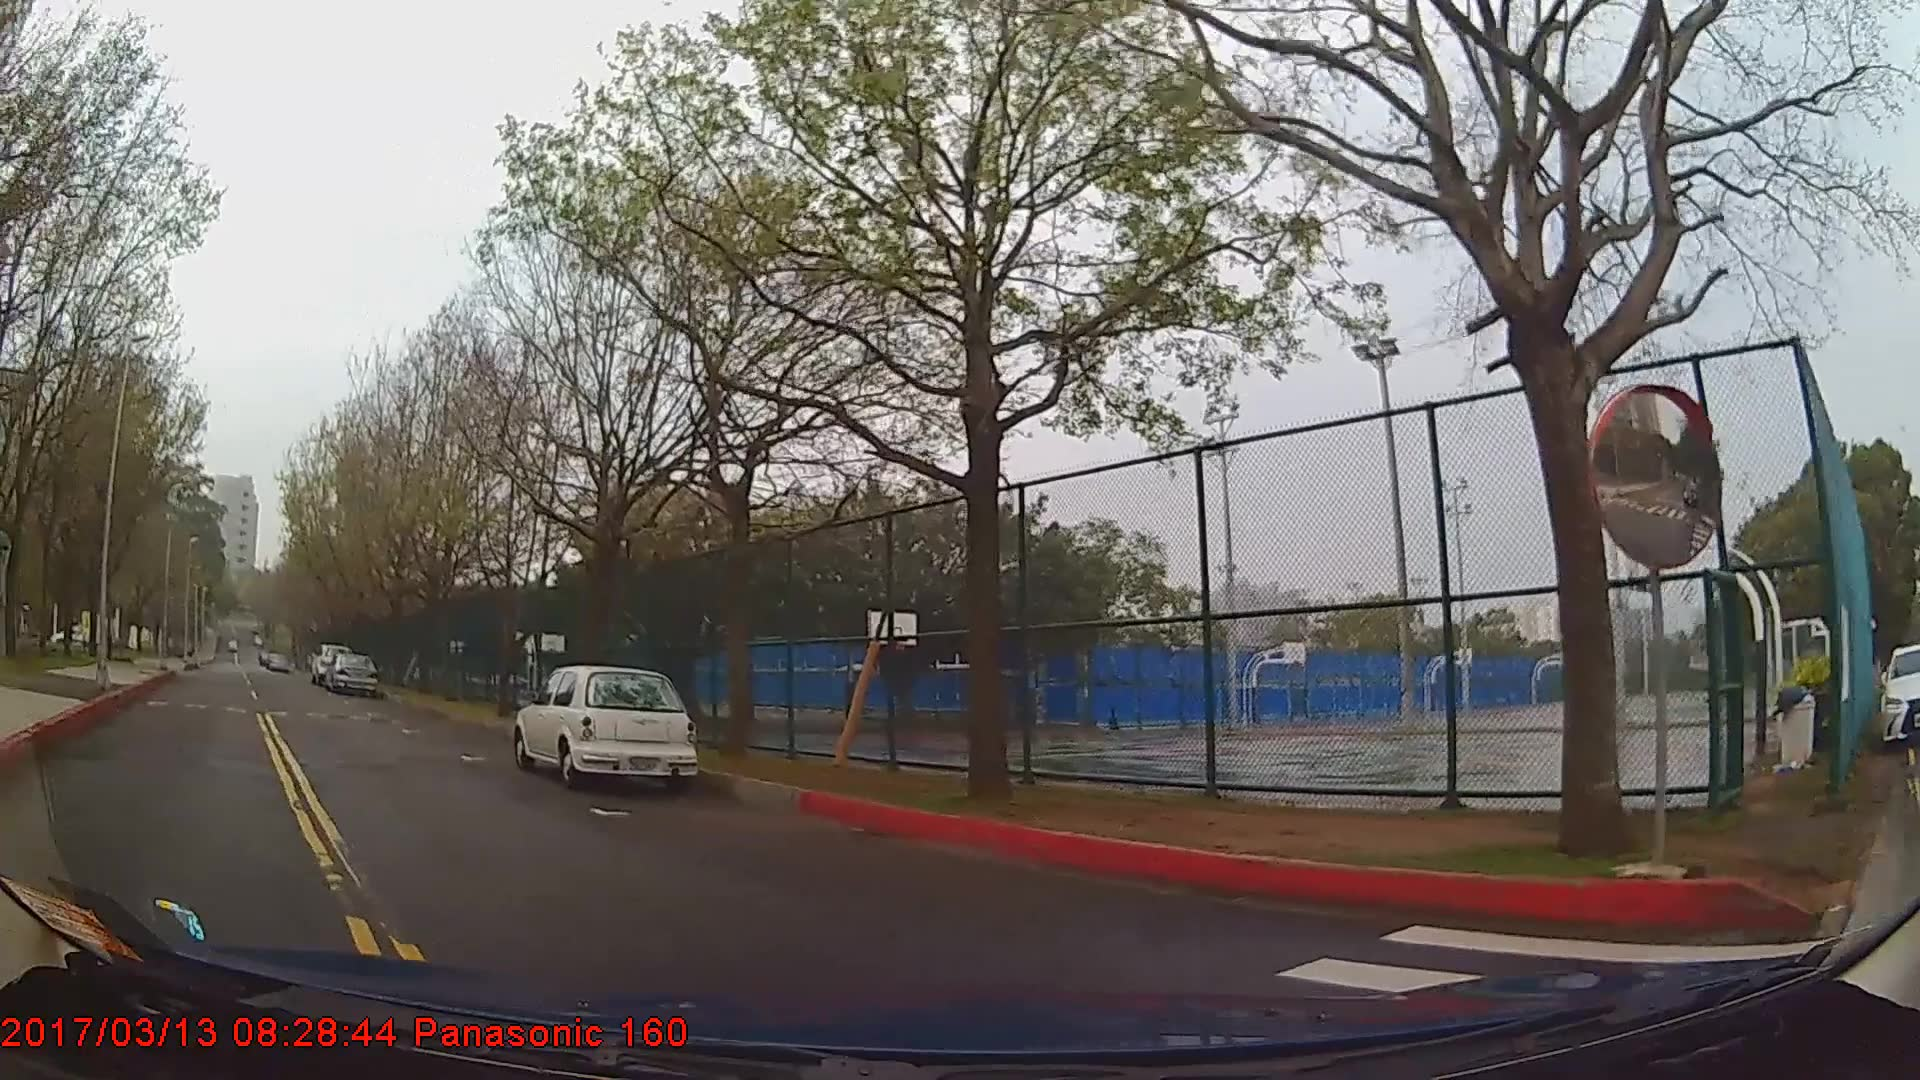vehicle: (513, 663, 698, 785), (1879, 644, 1919, 746), (324, 650, 378, 694)
